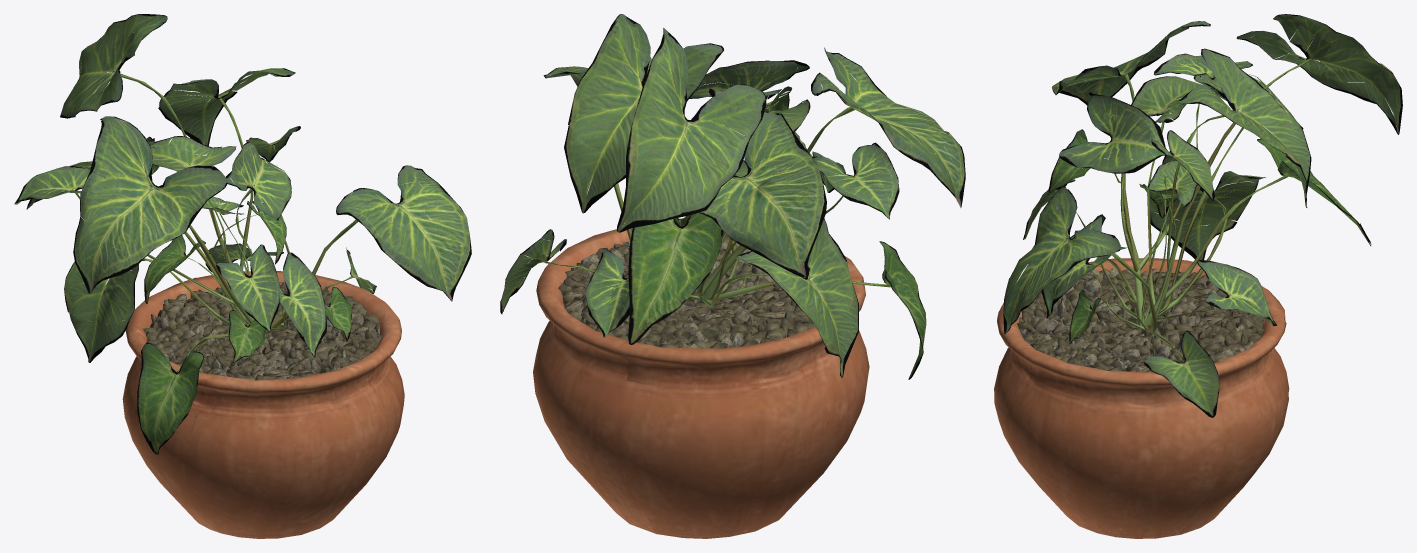
File: potted_plant_02.glb
3 renders of one model, left to right at view 1: azimuth 30°, elevation 25°; view 2: azimuth 150°, elevation 25°; view 3: azimuth 270°, elevation 25°, orthographic. The views are drawn at different scales.
Visible parts, largest first — view 1: potted_plant_02_leaves, potted_plant_02_pot, potted_plant_02_dirt; view 2: potted_plant_02_leaves, potted_plant_02_pot, potted_plant_02_dirt; view 3: potted_plant_02_leaves, potted_plant_02_pot, potted_plant_02_dirt.
Part boxes in pixels (bbox=[...]): potted_plant_02_leaves: bbox=[14, 14, 471, 454]; potted_plant_02_pot: bbox=[122, 271, 404, 538]; potted_plant_02_dirt: bbox=[143, 282, 382, 380]; potted_plant_02_leaves: bbox=[500, 14, 965, 379]; potted_plant_02_pot: bbox=[533, 228, 869, 538]; potted_plant_02_dirt: bbox=[558, 232, 828, 348]; potted_plant_02_leaves: bbox=[1003, 14, 1402, 417]; potted_plant_02_pot: bbox=[994, 258, 1289, 538]; potted_plant_02_dirt: bbox=[1017, 268, 1267, 372].
Bounding box in the file's own units: 0.7008 × 0.8416 × 0.657.
2 materials, 2 textured.
